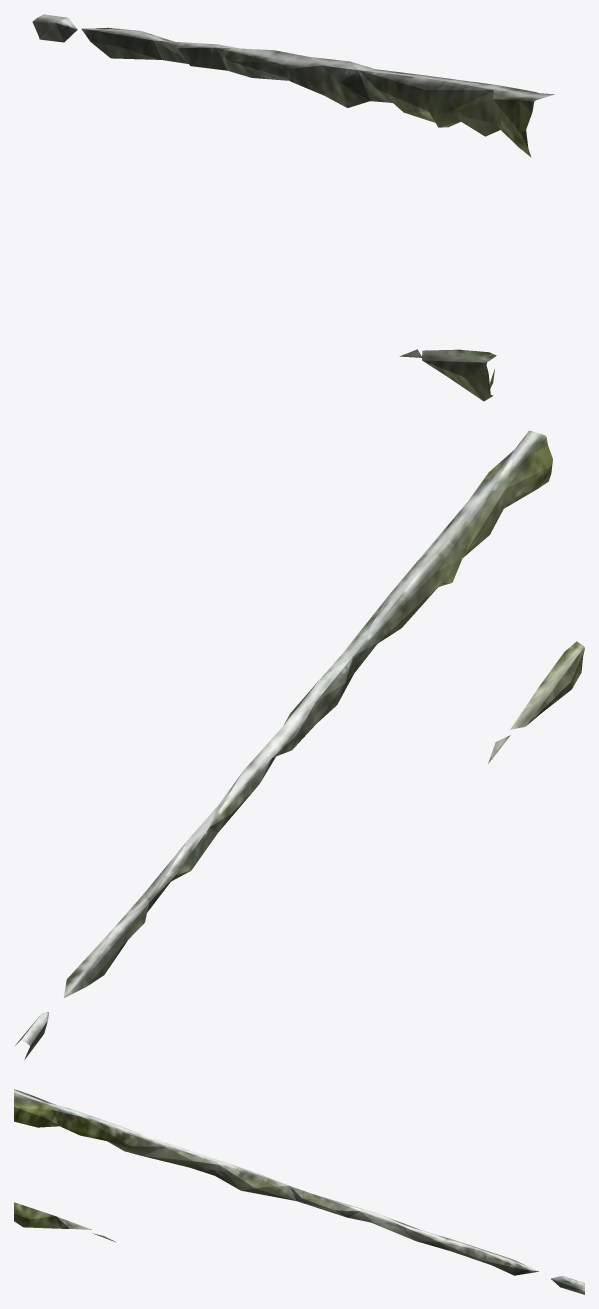
3 views of the same model, one above another, from view 1: azimuth 30°, elevation 25°; view 2: azimuth 150°, elevation 25°; view 3: azimuth 270°, elevation 25° (orthographic). The views are drawn at different scales.
Bounding box in the file's own units: 0.8307 × 2.15 × 5.9.
Materials: 1 (1 with a texture image).
